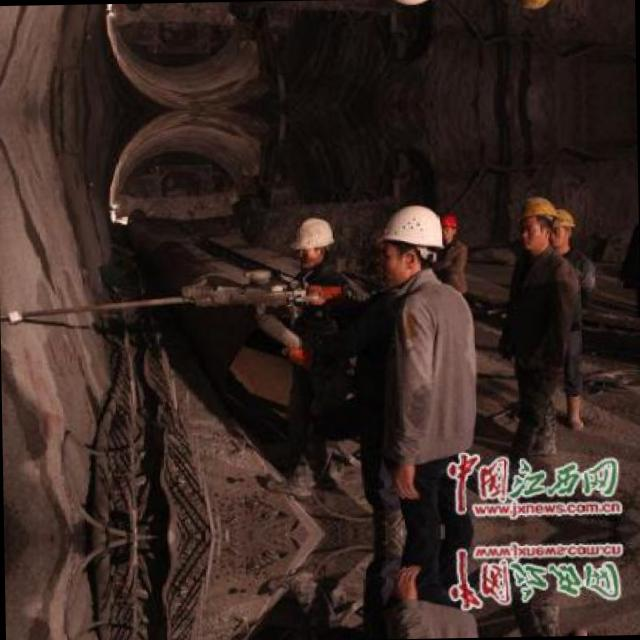helmet: (371, 199, 448, 284), (517, 192, 557, 252), (292, 214, 336, 266), (548, 207, 575, 246), (434, 210, 456, 241), (513, 0, 553, 13)
